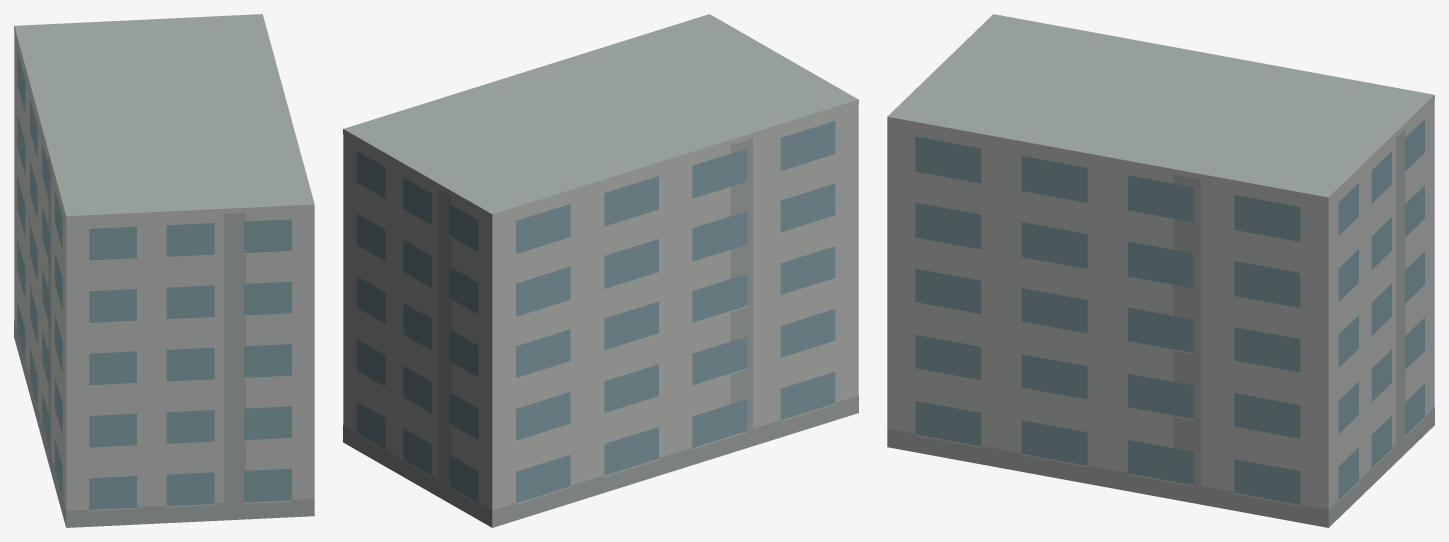
Rendered from survey-upis-32780270.glb.
The picture shows the model from 3 angles, left to right: view 1: azimuth 30°, elevation 25°; view 2: azimuth 150°, elevation 25°; view 3: azimuth 270°, elevation 25°; orthographic projection. The views are drawn at different scales.
Parts seen in each view (by area): view 1: survey-upis-32780270.tmp; view 2: survey-upis-32780270.tmp; view 3: survey-upis-32780270.tmp.
Boxes of the visible parts, bbox=[...] form: survey-upis-32780270.tmp: bbox=[14, 14, 314, 527]; survey-upis-32780270.tmp: bbox=[343, 14, 858, 527]; survey-upis-32780270.tmp: bbox=[887, 14, 1434, 527].
Size of the model in its own units: 17.39 by 14.6 by 21.93.
